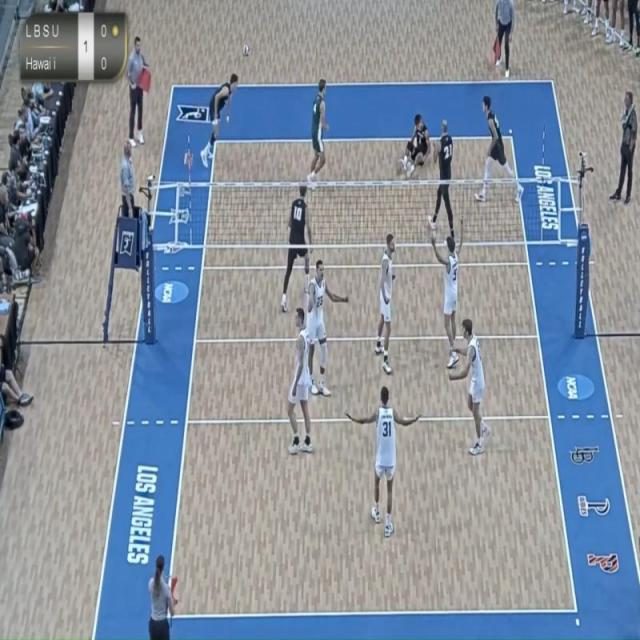volleyball: (240, 40, 252, 61)
